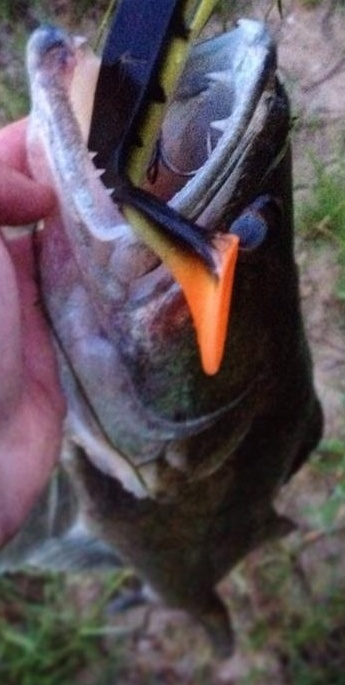Sander lucioperca: (20, 20, 325, 665)
